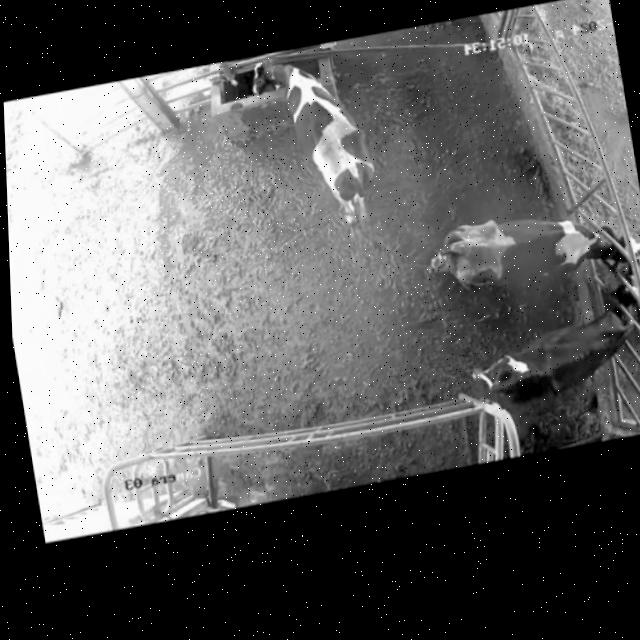drink: (245, 46, 335, 141)
eat: (550, 202, 640, 288), (566, 274, 640, 359)
